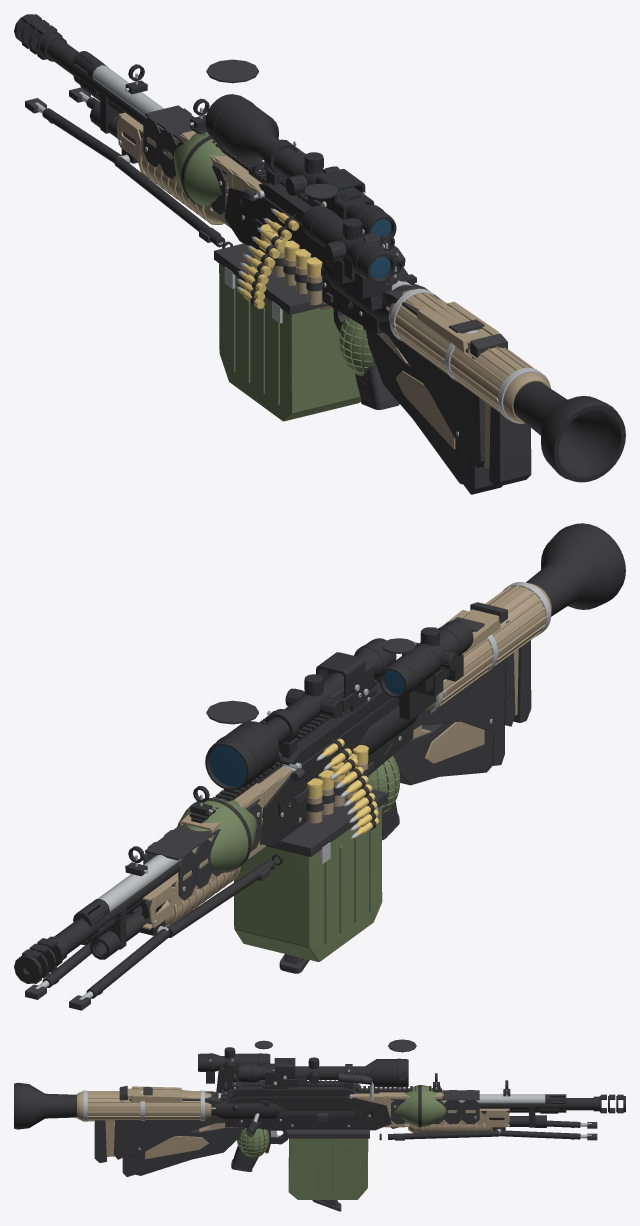
Rendered from weapons.glb.
The picture shows the model from 3 angles, top to bottom: view 1: azimuth 30°, elevation 25°; view 2: azimuth 150°, elevation 25°; view 3: azimuth 270°, elevation 25°; orthographic projection. The views are drawn at different scales.
Parts seen in each view (by area): view 1: RPG_Metal_Black_Turned, LMG_Olive_Rounded, SNIPER_Metal_Black_Turned, RPG_FDE_Turned, LMG_Metal_Black_Rounded, LMG_Polymer_Rounded.002, SHOTGUN_Polymer_Rounded.001, SNIPER_Polymer_Rounded.002, LMG_Metal_Black_Turned, RPG_Olive_Turned, SHOTGUN_FDE_Turned, LMG_Polymer_Rounded.004 (+20 smaller); view 2: LMG_Olive_Rounded, RPG_Metal_Black_Turned, SNIPER_Metal_Black_Turned, LMG_Metal_Black_Rounded, RPG_FDE_Turned, LMG_Polymer_Rounded.002, SHOTGUN_Polymer_Rounded.001, LMG_Metal_Black_Turned, RPG_Olive_Turned, LMG_Polymer_Rounded.004, LMG_Steel_Turned, LMG_Polymer_Rounded (+19 smaller); view 3: LMG_Metal_Black_Rounded, LMG_Olive_Rounded, SNIPER_Metal_Black_Turned, RPG_Metal_Black_Turned, RPG_FDE_Turned, LMG_Polymer_Rounded.002, SHOTGUN_Polymer_Rounded.001, LMG_Polymer_Rounded, RPG_Olive_Turned, LMG_Metal_Black_Turned, LMG_Polymer_Rounded.001, AR_Metal_Black_Rounded (+20 smaller).
Boxes of the visible parts, x1=… form: RPG_Metal_Black_Turned: x1=181, y1=136, x2=625, y2=482; LMG_Olive_Rounded: x1=219, y1=263, x2=360, y2=421; SNIPER_Metal_Black_Turned: x1=14, y1=14, x2=396, y2=244; RPG_FDE_Turned: x1=388, y1=289, x2=550, y2=423; LMG_Metal_Black_Rounded: x1=122, y1=80, x2=408, y2=334; LMG_Polymer_Rounded.002: x1=378, y1=283, x2=471, y2=454; SHOTGUN_Polymer_Rounded.001: x1=363, y1=326, x2=463, y2=484; SNIPER_Polymer_Rounded.002: x1=489, y1=406, x2=531, y2=486; LMG_Metal_Black_Turned: x1=73, y1=51, x2=385, y2=314; RPG_Olive_Turned: x1=173, y1=132, x2=228, y2=205; SHOTGUN_FDE_Turned: x1=137, y1=152, x2=322, y2=305; LMG_Polymer_Rounded.004: x1=214, y1=243, x2=328, y2=314; LMG_Olive_Rounded: x1=234, y1=805, x2=382, y2=961; RPG_Metal_Black_Turned: x1=192, y1=523, x2=625, y2=870; SNIPER_Metal_Black_Turned: x1=14, y1=638, x2=396, y2=998; LMG_Metal_Black_Rounded: x1=125, y1=652, x2=413, y2=932; RPG_FDE_Turned: x1=425, y1=583, x2=551, y2=710; LMG_Polymer_Rounded.002: x1=413, y1=625, x2=505, y2=733; SHOTGUN_Polymer_Rounded.001: x1=393, y1=722, x2=492, y2=785; LMG_Metal_Black_Turned: x1=73, y1=677, x2=401, y2=937; RPG_Olive_Turned: x1=177, y1=798, x2=257, y2=872; LMG_Polymer_Rounded.004: x1=266, y1=789, x2=386, y2=856; LMG_Steel_Turned: x1=97, y1=684, x2=401, y2=930; LMG_Polymer_Rounded: x1=145, y1=687, x2=396, y2=889; LMG_Metal_Black_Rounded: x1=225, y1=1058, x2=510, y2=1139; LMG_Olive_Rounded: x1=288, y1=1138, x2=368, y2=1199; SNIPER_Metal_Black_Turned: x1=239, y1=1057, x2=625, y2=1139; RPG_Metal_Black_Turned: x1=14, y1=1047, x2=421, y2=1129; RPG_FDE_Turned: x1=77, y1=1091, x2=211, y2=1121; LMG_Polymer_Rounded.002: x1=124, y1=1091, x2=225, y2=1157; SHOTGUN_Polymer_Rounded.001: x1=134, y1=1123, x2=264, y2=1175; LMG_Polymer_Rounded: x1=236, y1=1073, x2=479, y2=1169; RPG_Olive_Turned: x1=389, y1=1085, x2=458, y2=1126; LMG_Metal_Black_Turned: x1=241, y1=1080, x2=566, y2=1140; LMG_Polymer_Rounded.001: x1=391, y1=1090, x2=479, y2=1123; AR_Metal_Black_Rounded: x1=221, y1=1063, x2=441, y2=1139.
Bounding box in the file's own units: 0.1532 × 0.394 × 1.33.
